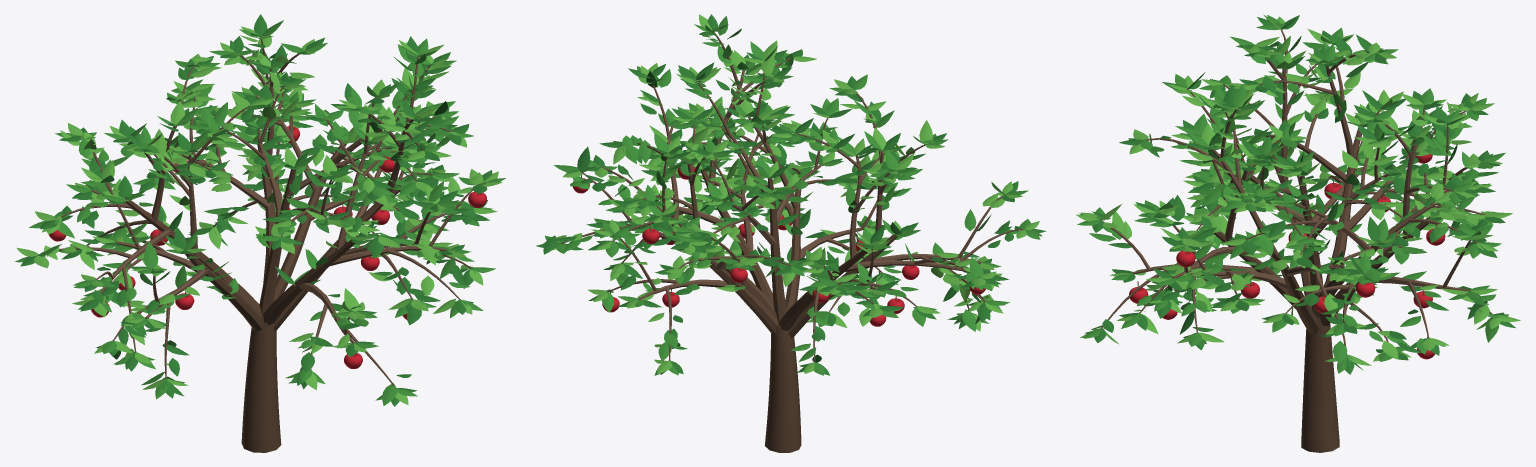
3 renders of one model, left to right at view 1: azimuth 30°, elevation 25°; view 2: azimuth 150°, elevation 25°; view 3: azimuth 270°, elevation 25°, orthographic. The views are drawn at different scales.
Parts seen in each view (by area): view 1: body; view 2: body; view 3: body.
Part boxes in pixels (x1=…): body: x1=14, y1=14, x2=505, y2=452; body: x1=536, y1=14, x2=1046, y2=452; body: x1=1076, y1=14, x2=1520, y2=452.
Size of the model in its own units: 4.62 by 3.82 by 3.76.
1 material, 1 textured.
